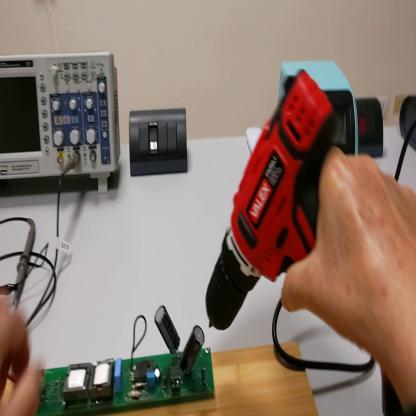electric screwdriver: (204, 77, 351, 336)
electric screwdriver battery: (383, 381, 404, 414)
hand: (281, 144, 415, 374), (2, 296, 40, 414)
high voltage board: (28, 307, 216, 415)
oscilloscope: (2, 44, 122, 195)
oscilloscope probe tip: (9, 221, 39, 311)
socket: (357, 98, 385, 159), (398, 93, 416, 150)
welder station: (279, 62, 362, 167)
working area: (1, 344, 319, 416)
